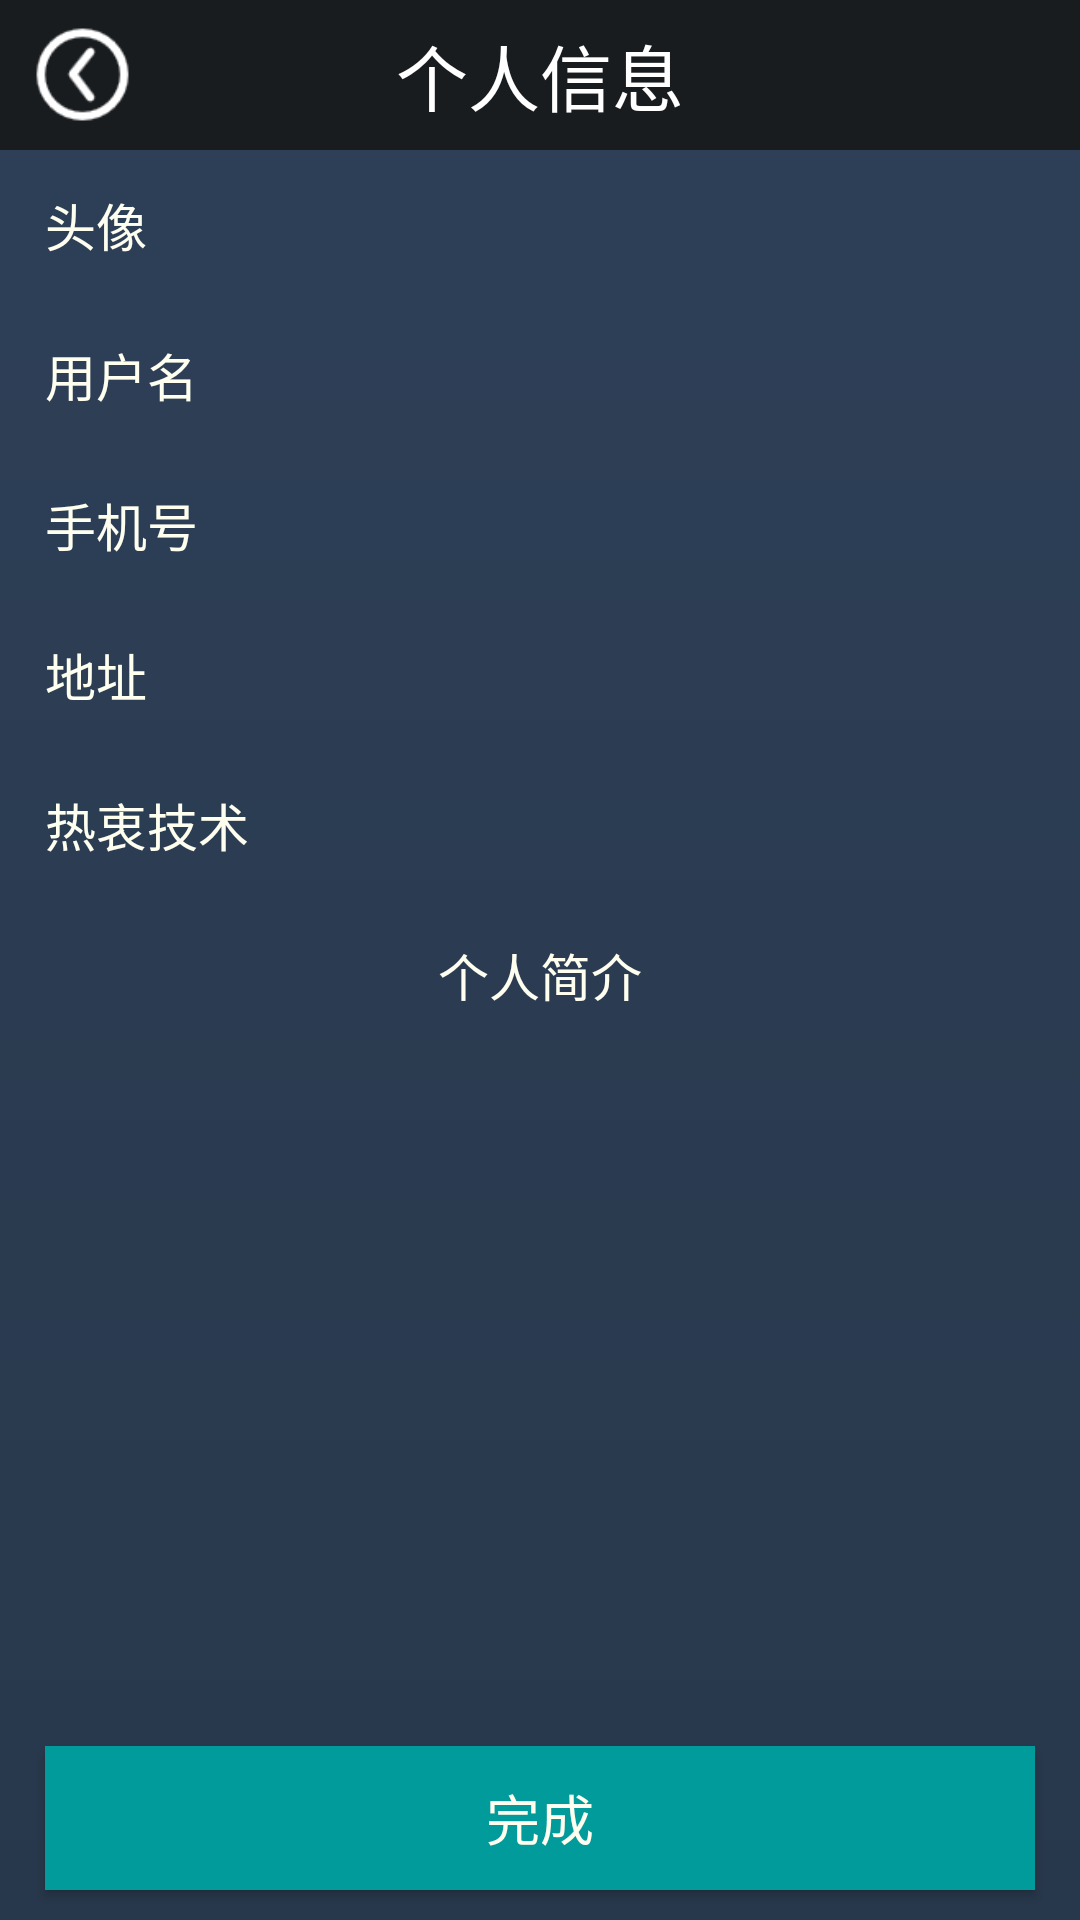

Icon bounding boxes for this 1080 x 1920 phone screenshot, format bbox=[x1, y1, x2, y2]:
back: bbox=[36, 28, 129, 121]
